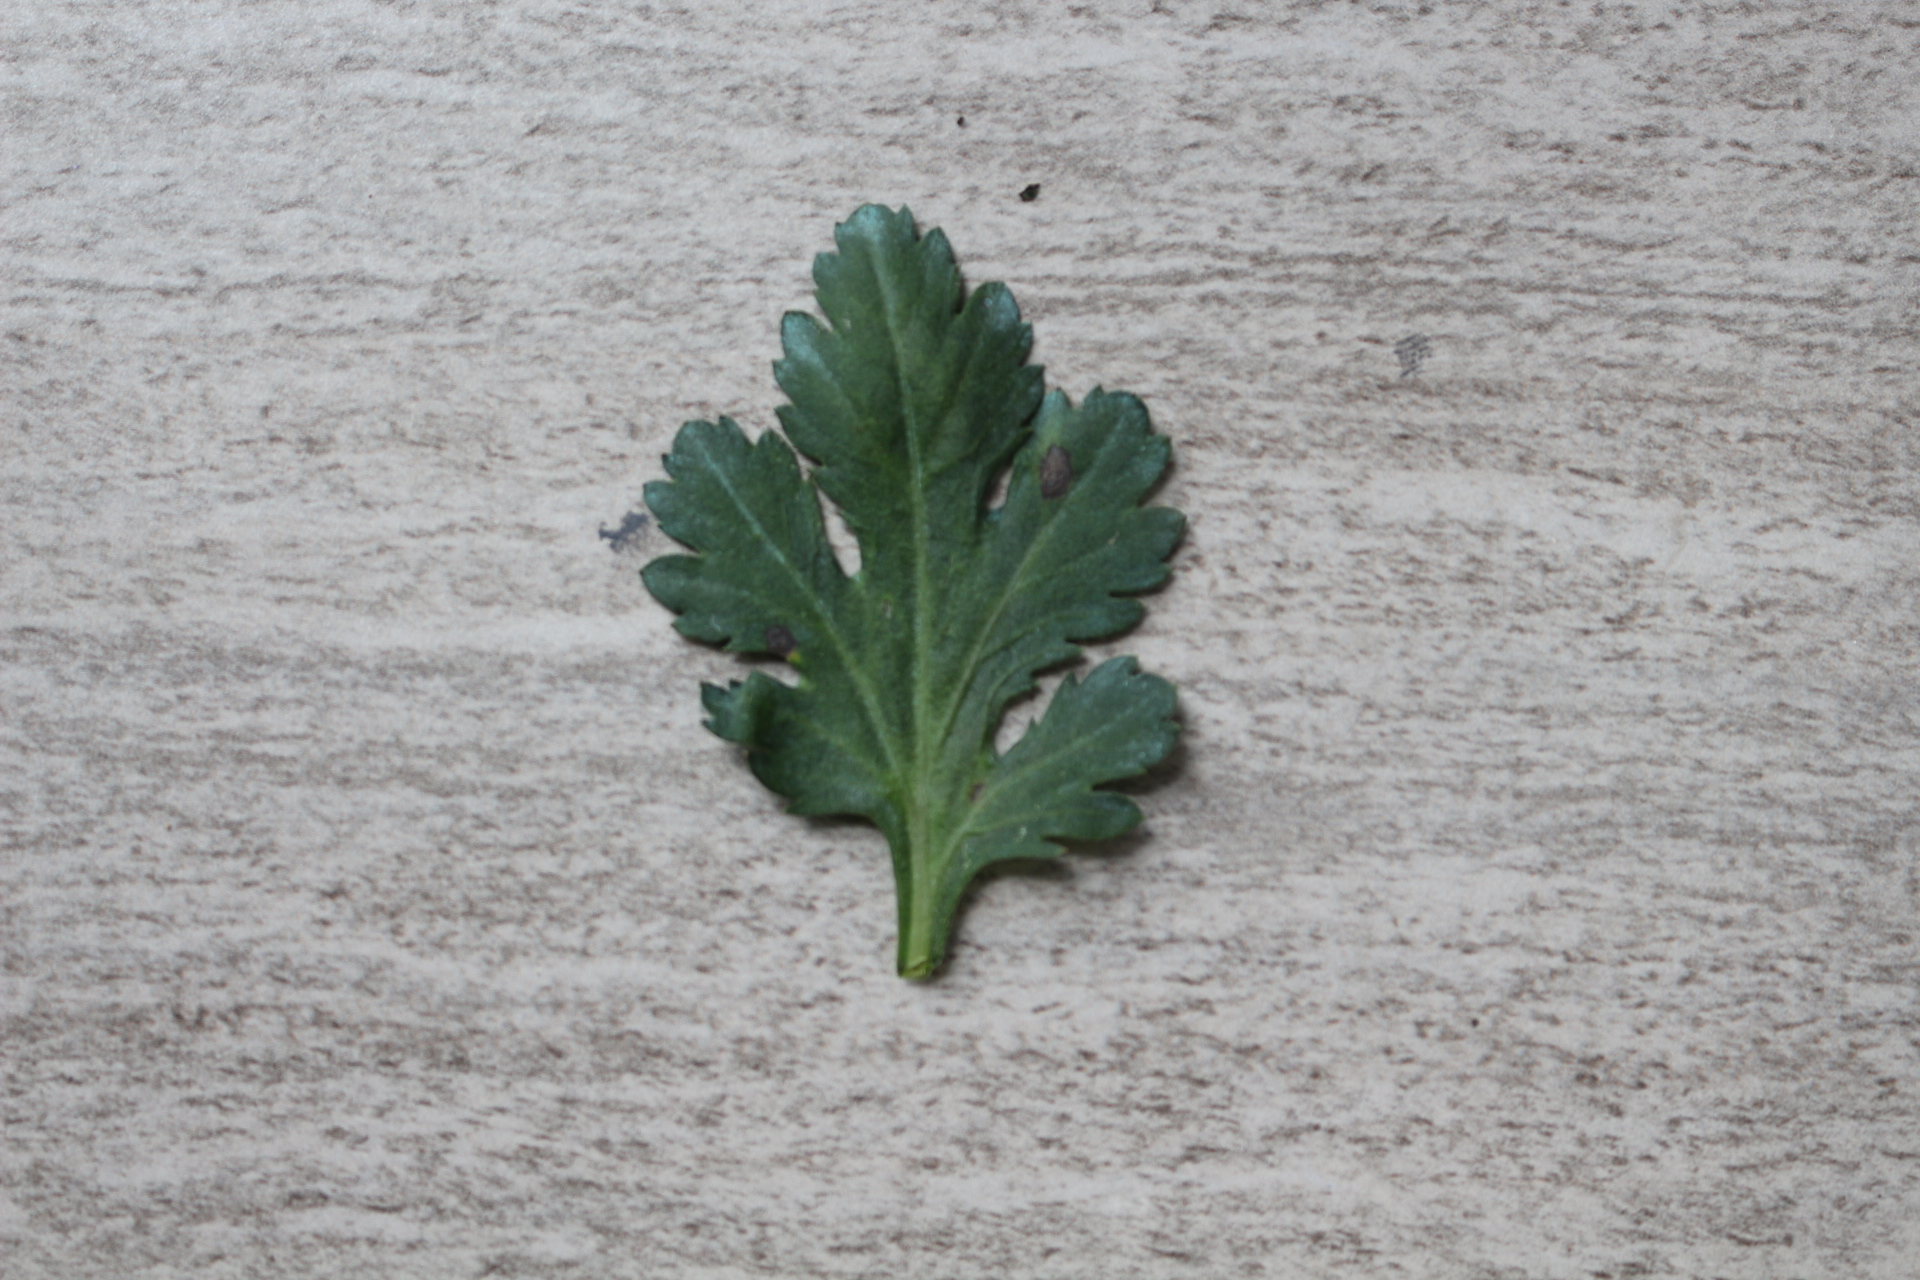namden: (1034, 441, 1074, 499), (761, 621, 804, 661)
